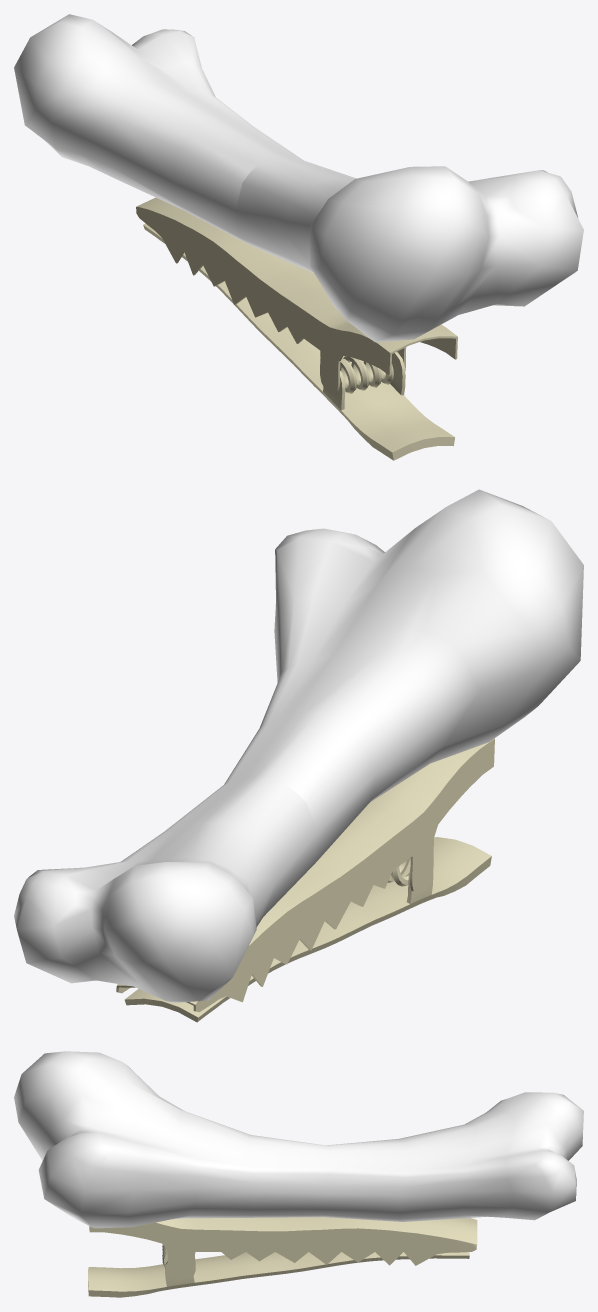
The model's file is faka1.fbx.
The picture shows the model from 3 angles, top to bottom: view 1: azimuth 30°, elevation 25°; view 2: azimuth 150°, elevation 25°; view 3: azimuth 270°, elevation 25°; orthographic projection. The views are drawn at different scales.
Visible parts, largest first — view 1: yugu, polySurface12; view 2: yugu, polySurface12; view 3: yugu, polySurface12.
Part boxes in pixels (left/top/right/bottom): yugu: left=14, top=14, right=583, bottom=341; polySurface12: left=136, top=197, right=457, bottom=460; yugu: left=14, top=489, right=583, bottom=1002; polySurface12: left=116, top=738, right=494, bottom=1022; yugu: left=14, top=1051, right=583, bottom=1228; polySurface12: left=88, top=1217, right=477, bottom=1297.
Bounding box in the file's own units: 27.84 × 30.1 × 68.86.
